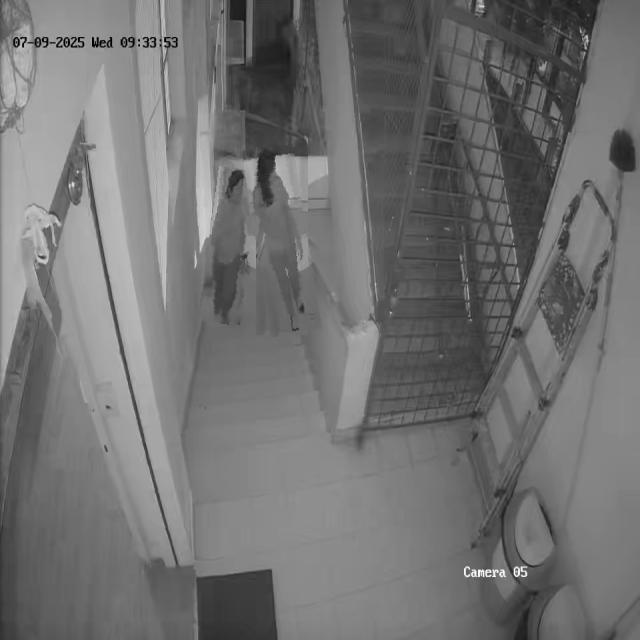person: (250, 146, 316, 336), (203, 167, 254, 325)
